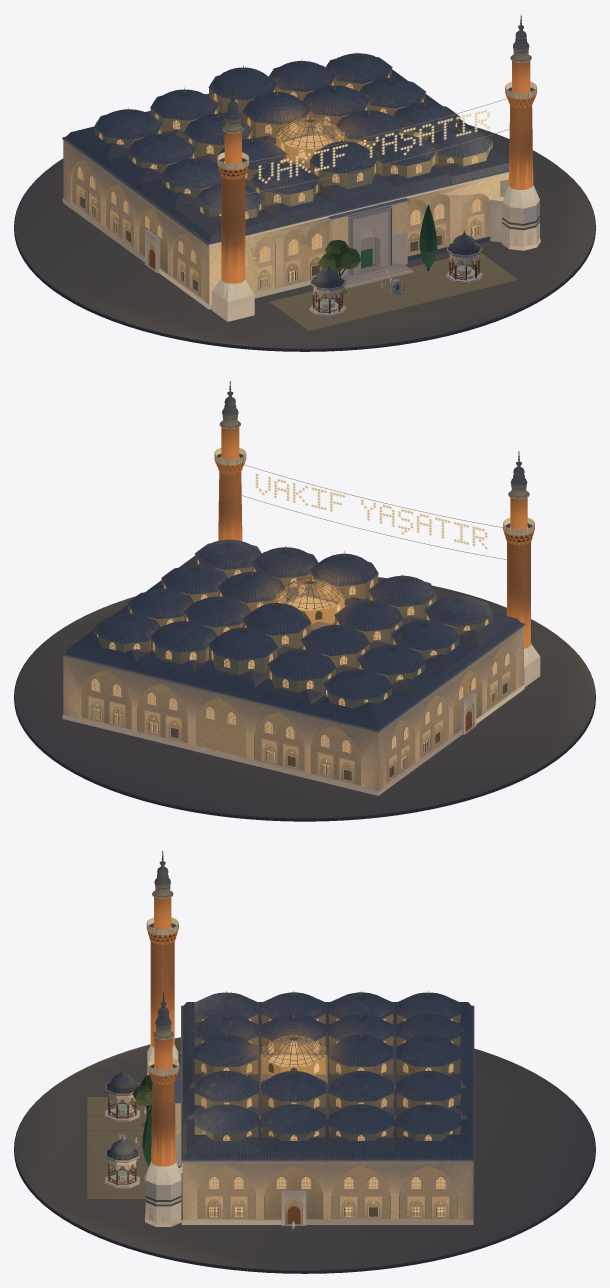
The model's file is ulu-cami_v32_night_v2_sunum.glb.
3 renders of one model, top to bottom at view 1: azimuth 30°, elevation 25°; view 2: azimuth 150°, elevation 25°; view 3: azimuth 270°, elevation 25°, orthographic.
Parts seen in each view (by area): view 1: Zemin_Kaide, Kubbeler_19, Cati, Cephe_Kuzey, Cephe_Dogu, Minare_1, Zemin_Avlu_Tas, Minare_2, Pencere_Girintileri, Tac_Kapi, Mahya, Sadirvan_Kubbe (+11 smaller); view 2: Zemin_Kaide, Kubbeler_19, Cephe_Guney, Cati, Cephe_Dogu, Pencere_Girintileri, Minare_2, Minare_1, Mermer_Bant, Mahya, Sadirvan_Kubbe, Kasnak_Pencereleri (+3 smaller); view 3: Zemin_Kaide, Kubbeler_19, Cephe_Bati, Cati, Minare_1, Zemin_Avlu_Tas, Minare_2, Pencere_Girintileri, Sadirvan_Kubbe, Kasnak_Pencereleri, Mermer_Bant, Avlu_Sadirvan_Bati (+5 smaller).
Part boxes in pixels (x1,y1,x2,y2): Zemin_Kaide: (14, 124, 595, 351); Kubbeler_19: (94, 53, 493, 219); Cati: (62, 69, 509, 244); Cephe_Kuzey: (208, 173, 508, 304); Cephe_Dogu: (64, 141, 208, 304); Minare_1: (488, 14, 540, 250); Zemin_Avlu_Tas: (269, 252, 517, 331); Minare_2: (212, 85, 254, 321); Pencere_Girintileri: (76, 182, 484, 295); Tac_Kapi: (342, 206, 413, 288); Mahya: (245, 98, 510, 194); Sadirvan_Kubbe: (276, 117, 344, 162); Zemin_Kaide: (14, 577, 595, 821); Kubbeler_19: (94, 539, 493, 708); Cephe_Guney: (63, 656, 378, 790); Cati: (63, 556, 524, 731); Cephe_Dogu: (379, 627, 523, 790); Pencere_Girintileri: (87, 669, 511, 783); Minare_2: (503, 451, 540, 686); Minare_1: (214, 381, 246, 541); Mermer_Bant: (62, 684, 524, 795); Mahya: (240, 464, 506, 559); Sadirvan_Kubbe: (276, 578, 344, 624); Kasnak_Pencereleri: (97, 560, 488, 705); Zemin_Kaide: (14, 1037, 595, 1273); Kubbeler_19: (194, 992, 460, 1140); Cephe_Bati: (183, 1162, 471, 1223); Cati: (181, 1002, 473, 1160); Minare_1: (145, 991, 182, 1226); Zemin_Avlu_Tas: (87, 1097, 150, 1198); Minare_2: (146, 850, 178, 1075); Pencere_Girintileri: (204, 1195, 450, 1218); Sadirvan_Kubbe: (261, 1035, 325, 1075); Kasnak_Pencereleri: (201, 1014, 460, 1140); Mermer_Bant: (181, 1162, 473, 1224); Avlu_Sadirvan_Bati: (105, 1136, 139, 1188).
Size of the model in its own units: 111 by 48.52 by 111.
Materials: 65 (18 with a texture image).
